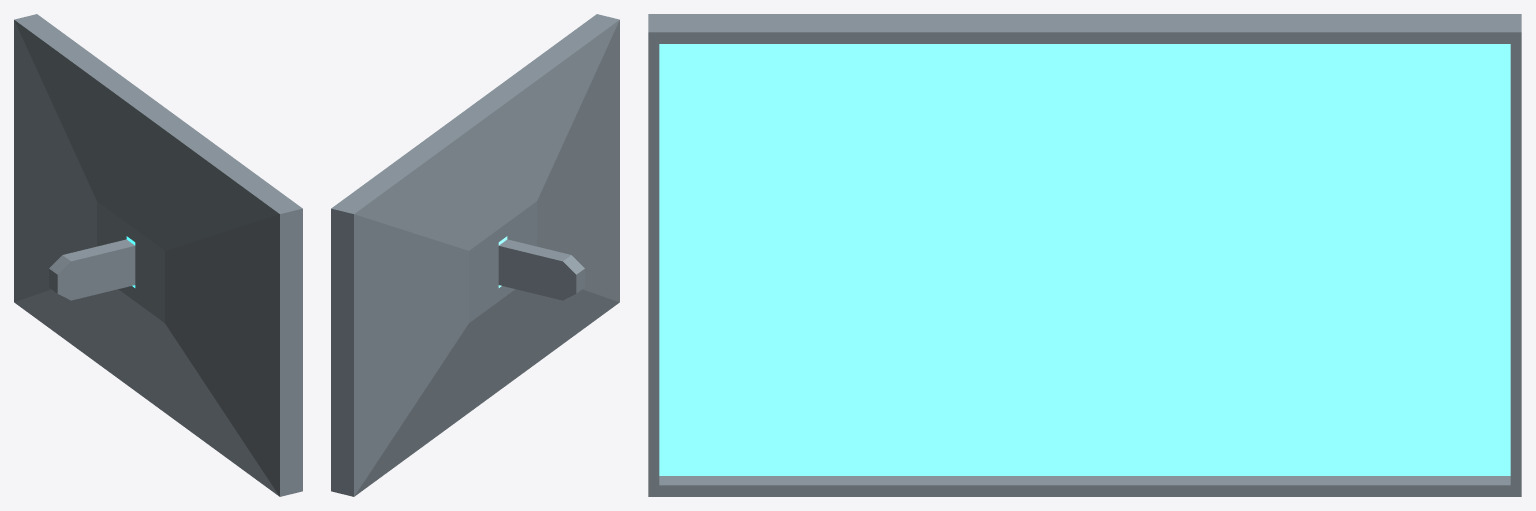
The model's file is Screen_Medium_Wall.fbx.
3 renders of one model, left to right at view 1: azimuth 30°, elevation 25°; view 2: azimuth 150°, elevation 25°; view 3: azimuth 270°, elevation 25°, orthographic. The views are drawn at different scales.
Parts seen in each view (by area): view 1: Screen_Medium_Wall; view 2: Screen_Medium_Wall; view 3: Screen_Medium_Wall.
Boxes of the visible parts, <box> form: Screen_Medium_Wall: <box>14,14,302,496</box>; Screen_Medium_Wall: <box>331,14,619,496</box>; Screen_Medium_Wall: <box>648,14,1521,496</box>.
Size of the model in its own units: 1.01 by 2.35 by 4.
